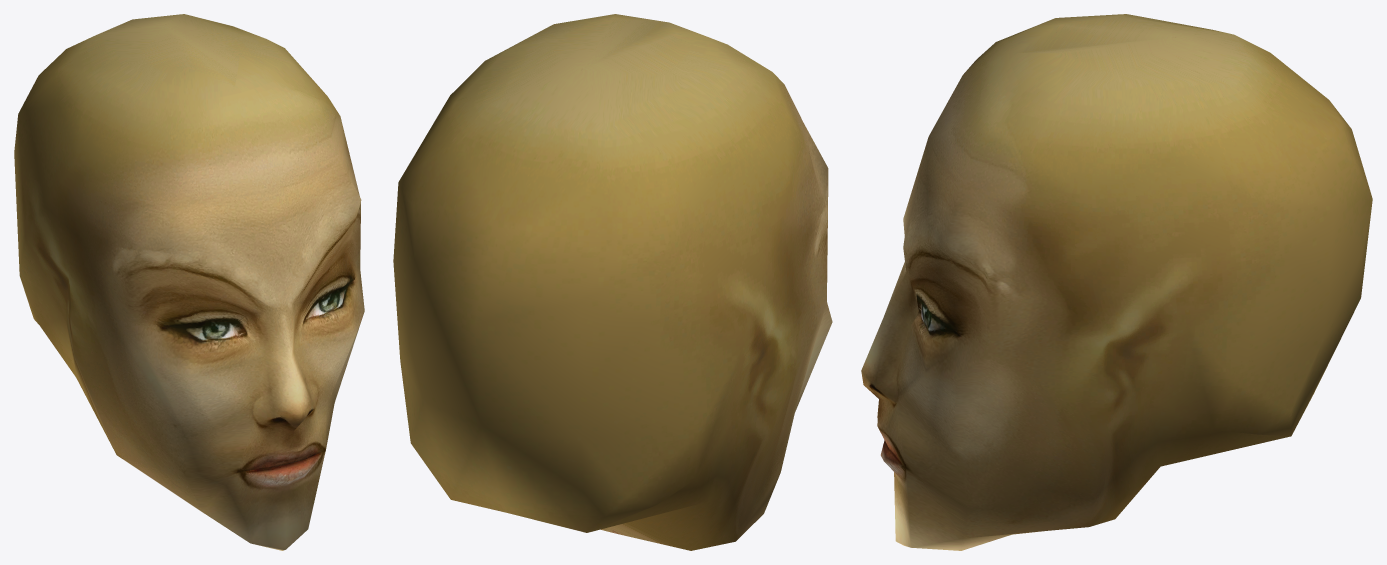
Rendered from b_n_high elf_f_head_06.glb.
3 views of the same model, side by side, from view 1: azimuth 30°, elevation 25°; view 2: azimuth 150°, elevation 25°; view 3: azimuth 270°, elevation 25° (orthographic). The views are drawn at different scales.
Parts seen in each view (by area): view 1: Tri B_N_High Elf_F_Head_06; view 2: Tri B_N_High Elf_F_Head_06; view 3: Tri B_N_High Elf_F_Head_06.
Part boxes in pixels (<box>): Tri B_N_High Elf_F_Head_06: <box>14,14,364,550</box>; Tri B_N_High Elf_F_Head_06: <box>393,14,832,550</box>; Tri B_N_High Elf_F_Head_06: <box>861,14,1372,550</box>.
Bounding box in the file's own units: 0.0969 × 0.1523 × 0.1389.
1 material, 1 textured.
